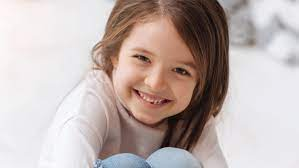person: (107, 1, 224, 126)
